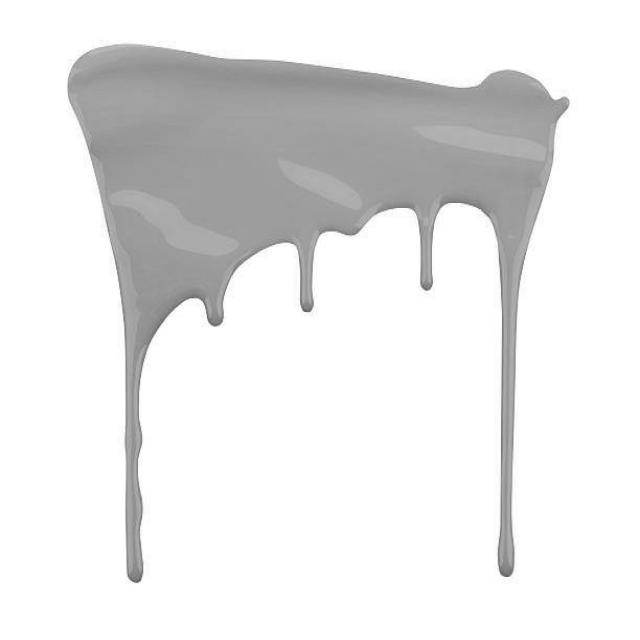paint drips: (96, 139, 562, 596)
